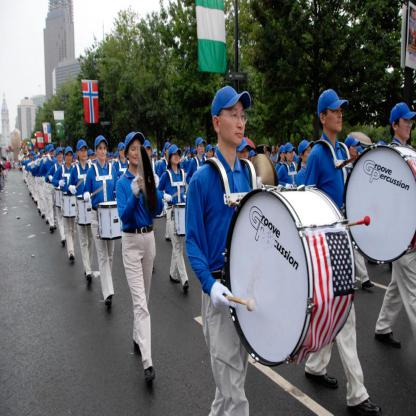face: (220, 100, 246, 146), (326, 100, 343, 131), (397, 112, 413, 140), (129, 141, 143, 164), (238, 146, 249, 164), (98, 142, 108, 161), (303, 146, 313, 164), (79, 145, 88, 160), (172, 151, 181, 165), (350, 142, 358, 157), (199, 142, 206, 155), (287, 149, 294, 162), (67, 150, 73, 164), (146, 145, 152, 158), (282, 150, 288, 160), (208, 149, 214, 159), (167, 147, 173, 156), (58, 151, 63, 161), (121, 148, 126, 157), (50, 149, 55, 157), (252, 154, 257, 162), (90, 153, 94, 161), (42, 154, 45, 160), (277, 147, 280, 153), (264, 147, 267, 153), (273, 147, 276, 152), (188, 152, 191, 157), (195, 153, 197, 157), (160, 156, 162, 159)
